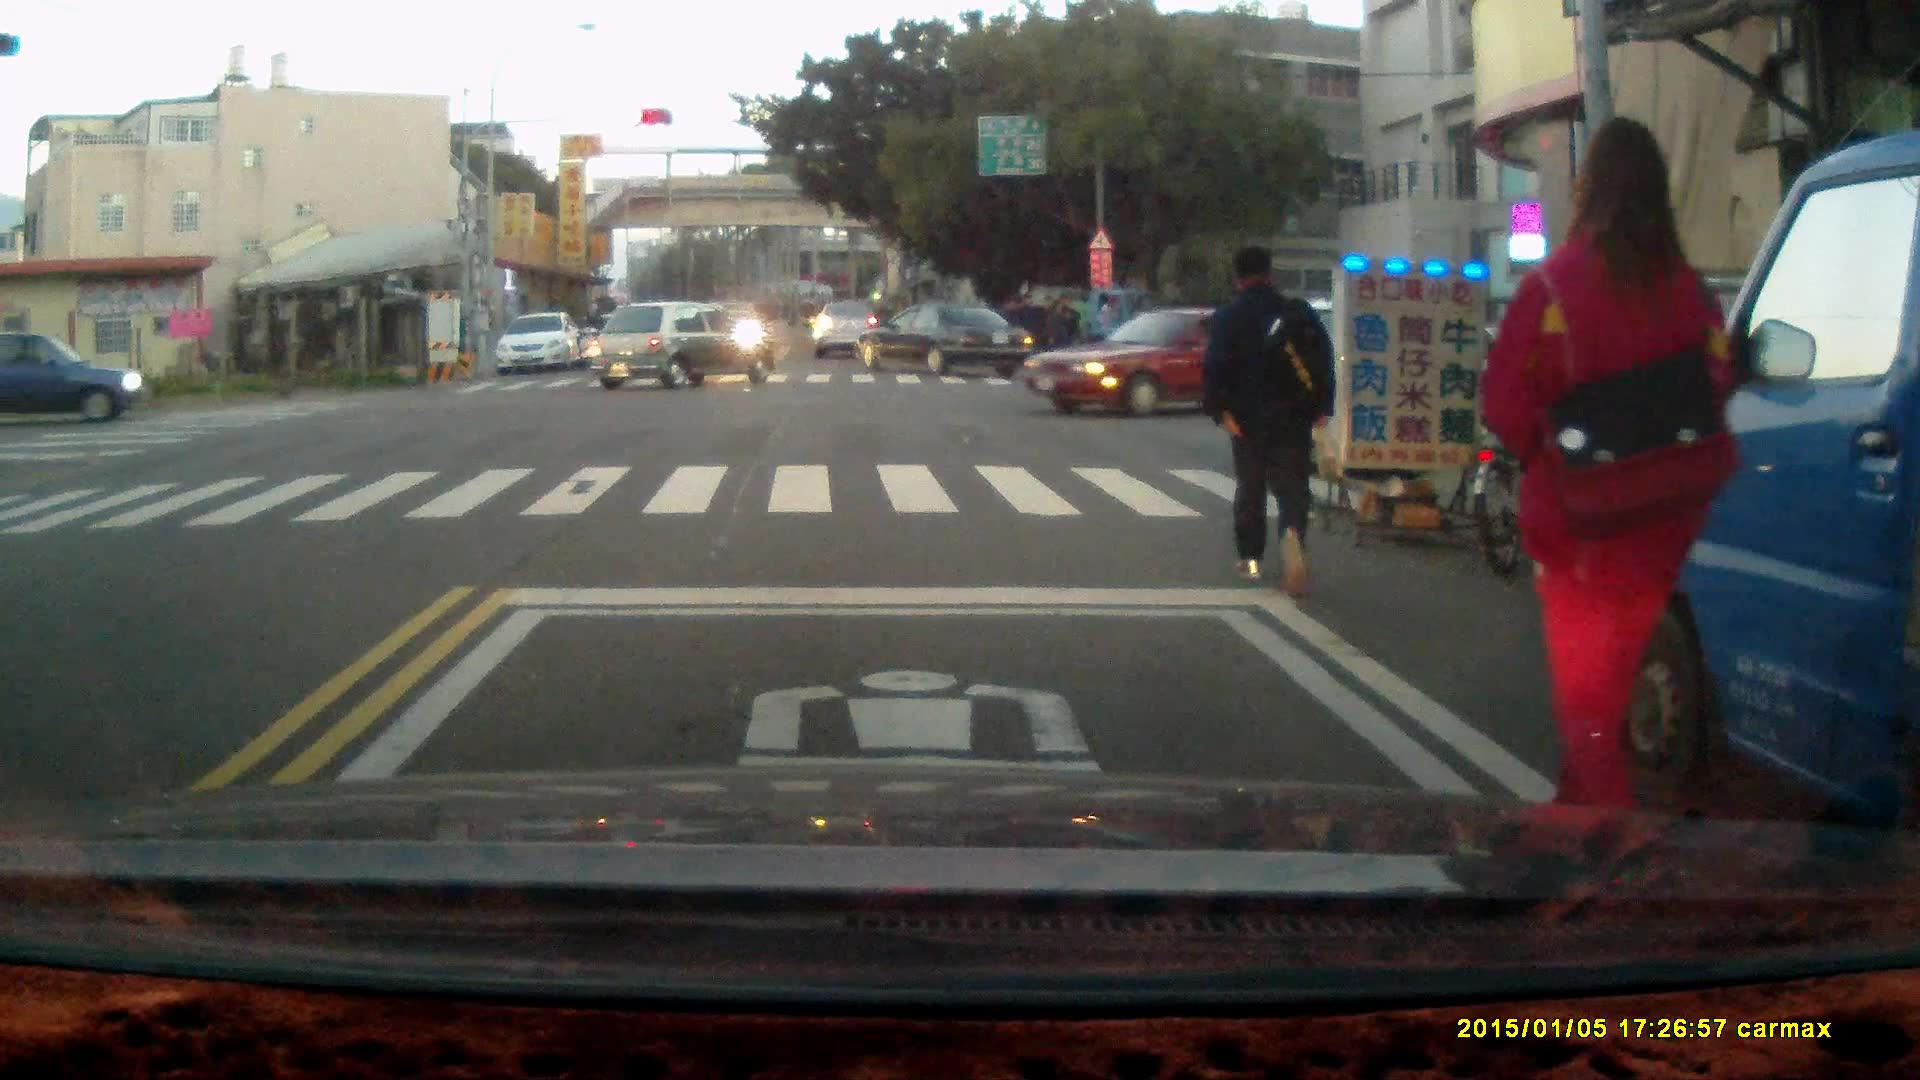pedestrian: (1478, 114, 1752, 842), (1196, 239, 1342, 592), (1010, 292, 1041, 371), (1051, 290, 1080, 368), (1047, 297, 1072, 363)
rider: (575, 302, 607, 369)
vehicle: (1598, 132, 1920, 856), (1233, 296, 1533, 459), (1016, 302, 1259, 414), (588, 302, 778, 393), (1002, 284, 1181, 367), (1, 331, 153, 428), (861, 303, 1031, 377), (498, 313, 586, 377), (811, 302, 886, 370)
